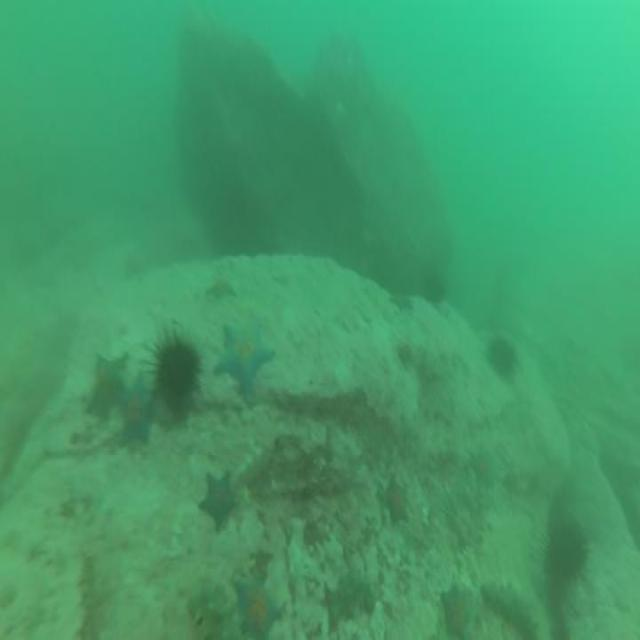echinus: (148, 327, 204, 424), (540, 507, 593, 594), (486, 326, 516, 384), (416, 262, 447, 308)
starfish: (216, 319, 274, 409), (225, 573, 286, 640), (84, 351, 128, 422), (117, 371, 154, 455), (198, 466, 241, 536), (377, 471, 413, 531), (441, 580, 475, 640), (203, 275, 240, 307)
